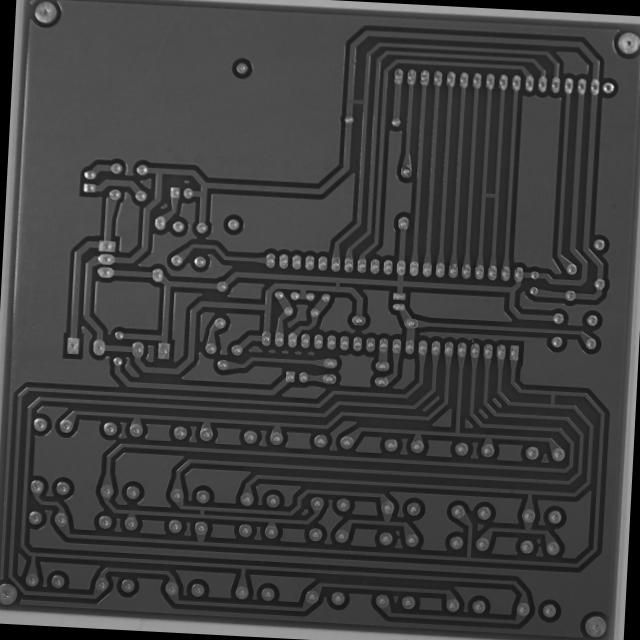short: (478, 186, 502, 204), (344, 92, 368, 109), (544, 386, 560, 410), (331, 274, 346, 294), (195, 504, 209, 519)
